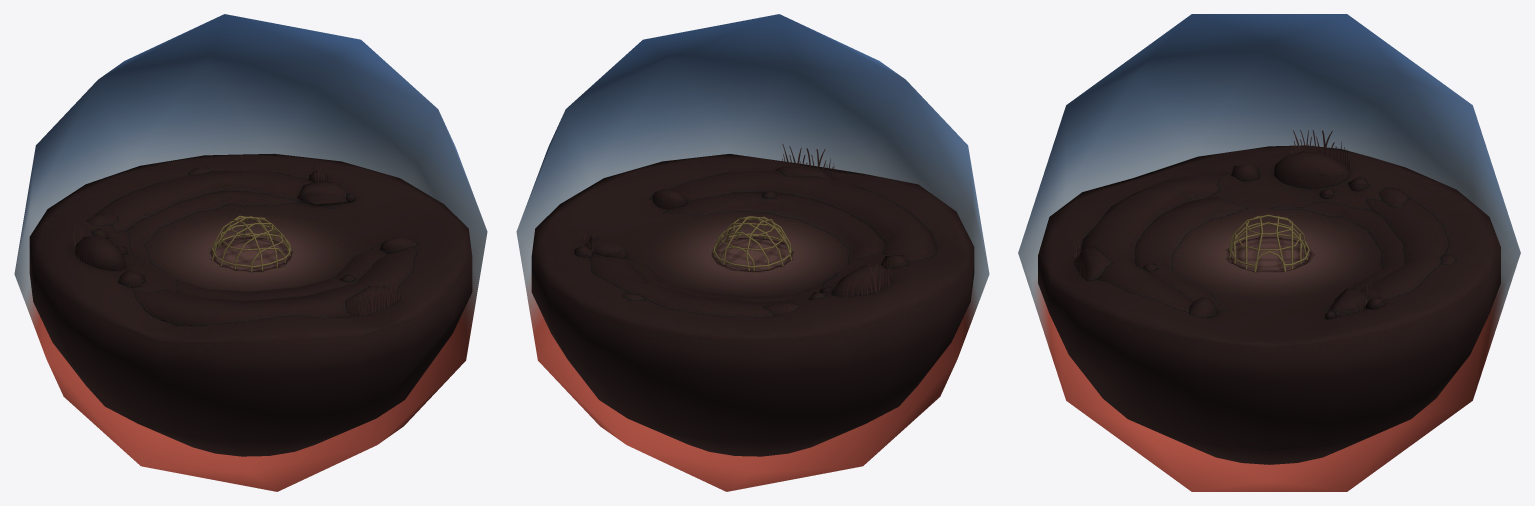
3 renders of one model, left to right at view 1: azimuth 30°, elevation 25°; view 2: azimuth 150°, elevation 25°; view 3: azimuth 270°, elevation 25°, orthographic. The views are drawn at different scales.
Parts seen in each view (by area): view 1: ground.006, envirosphere.004, GRASS.006; view 2: ground.006, envirosphere.004, GRASS.007; view 3: ground.006, envirosphere.004, GRASS.007.
Boxes of the visible parts, x1=… form: ground.006: x1=29, y1=153, x2=472, y2=456; envirosphere.004: x1=14, y1=14, x2=487, y2=491; GRASS.006: x1=348, y1=273, x2=401, y2=316; ground.006: x1=531, y1=154, x2=974, y2=456; envirosphere.004: x1=516, y1=14, x2=989, y2=491; GRASS.007: x1=843, y1=261, x2=891, y2=296; ground.006: x1=1038, y1=145, x2=1500, y2=464; envirosphere.004: x1=1018, y1=14, x2=1520, y2=491; GRASS.007: x1=1290, y1=130, x2=1349, y2=170.
Bounding box in the file's own units: 13.02 × 13.69 × 13.69.
4 materials, 3 textured.
